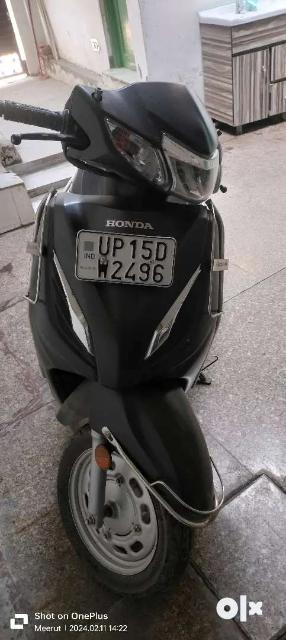Indian_Number_Plate: (77, 231, 175, 284)
